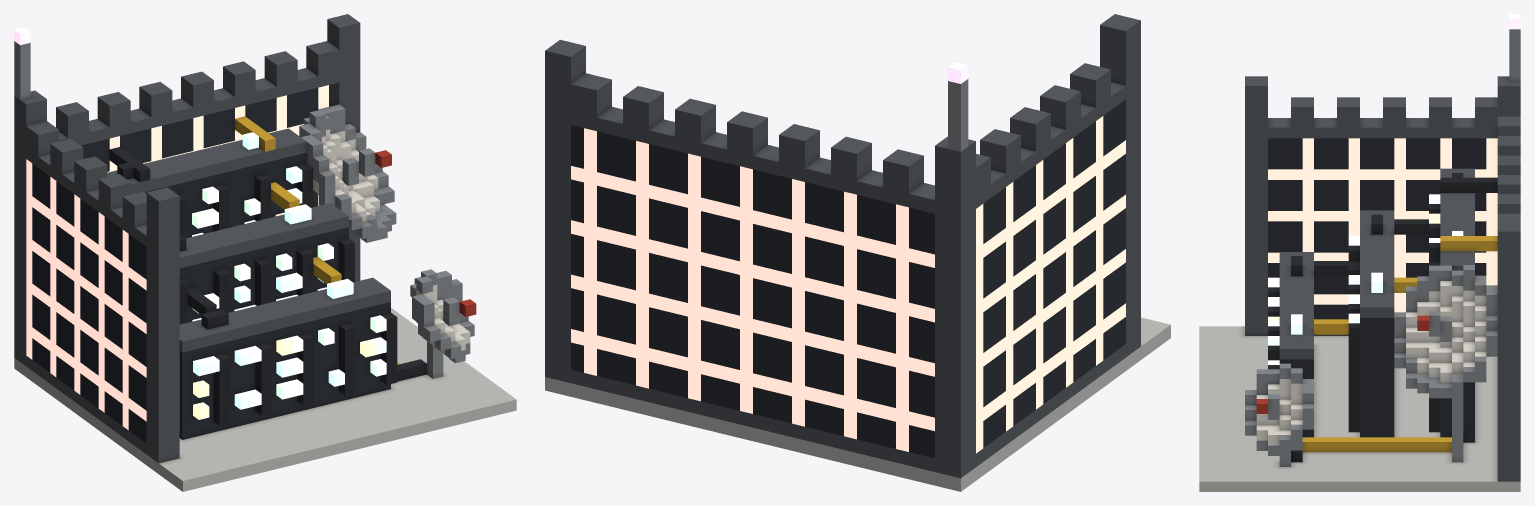
Rendered from w_great_firewall.glb.
3 renders of one model, left to right at view 1: azimuth 30°, elevation 25°; view 2: azimuth 150°, elevation 25°; view 3: azimuth 270°, elevation 25°, orthographic. The views are drawn at different scales.
Parts seen in each view (by area): view 1: w_great_firewall_body; view 2: w_great_firewall_body; view 3: w_great_firewall_body.
Part boxes in pixels (box(x1,y1,x2,y2)): w_great_firewall_body: box(14, 14, 516, 491); w_great_firewall_body: box(545, 14, 1170, 491); w_great_firewall_body: box(1199, 14, 1520, 491).
Bounding box in the file's own units: 2.06 × 1.94 × 1.75.
Materials: 1 (1 with a texture image).
